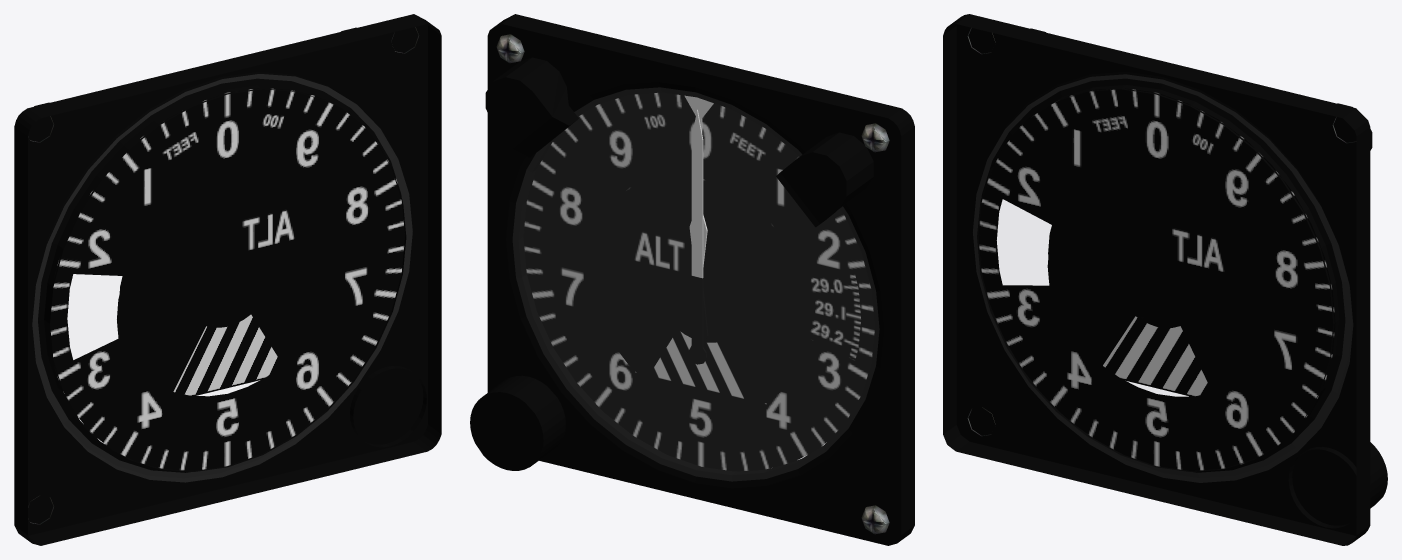
Rendered from alt.obj.
3 views of the same model, side by side, from view 1: azimuth 30°, elevation 25°; view 2: azimuth 150°, elevation 25°; view 3: azimuth 330°, elevation 25° (orthographic).
Visible parts, largest first — view 1: face, fond, vitre, warning, knob; view 2: vitre, fond, face, cover, knob, pressure, warning, needle1; view 3: face, fond, vitre, warning, knob.
Part boxes in pixels (box(x1,y1,x2,y2)): face: box(50, 88, 404, 470); fond: box(14, 14, 441, 545); vitre: box(33, 74, 411, 481); warning: box(173, 314, 282, 395); knob: box(350, 366, 426, 447); vitre: box(513, 88, 878, 480); fond: box(485, 14, 914, 545); face: box(523, 92, 874, 471); cover: box(589, 175, 810, 407); knob: box(470, 375, 565, 470); pressure: box(673, 274, 861, 396); warning: box(634, 329, 767, 405); needle1: box(688, 109, 706, 364); face: box(978, 88, 1335, 470); fond: box(943, 14, 1372, 545); vitre: box(973, 75, 1352, 482); warning: box(1103, 316, 1212, 396); knob: box(1288, 442, 1387, 528).
Bounding box in the file's own units: 0.0839 × 0.0828 × 0.0143.
2 materials, 1 textured.
